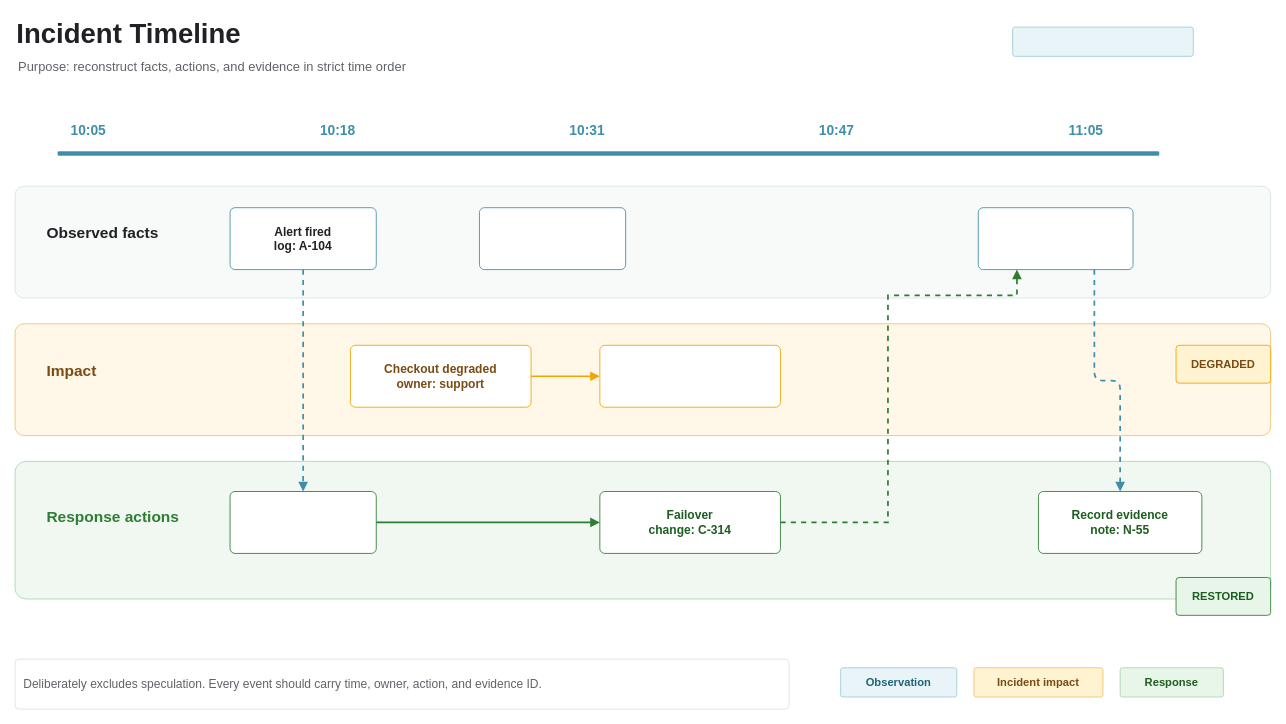
Image size: 1286x724. Some labels were removed from this diagram. The shapes that lost their labels are listed below. From the top down, each one's centre as x and y in pixels, then its label:
point (1102, 41): Post-incident review
point (552, 238): Error burst trace: T-822
point (1055, 238): Recovery signal metric: M-119
point (689, 375): Queue backlog status: slowdown
point (302, 522): Escalate pager: P-77
